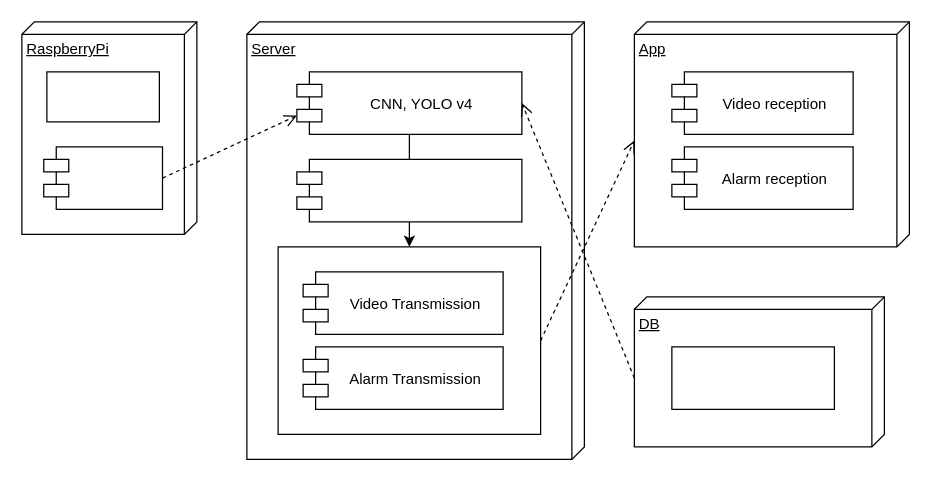
Some shapes in this 931 by 481 pixel diagram are drawn without their labels. The centre of each missing label's shape, as x and y in pixels:
Camera: (102,96)
communication module: (409,190)
Fire Image Crawling: (752,377)
움직임 감지: (102,177)
